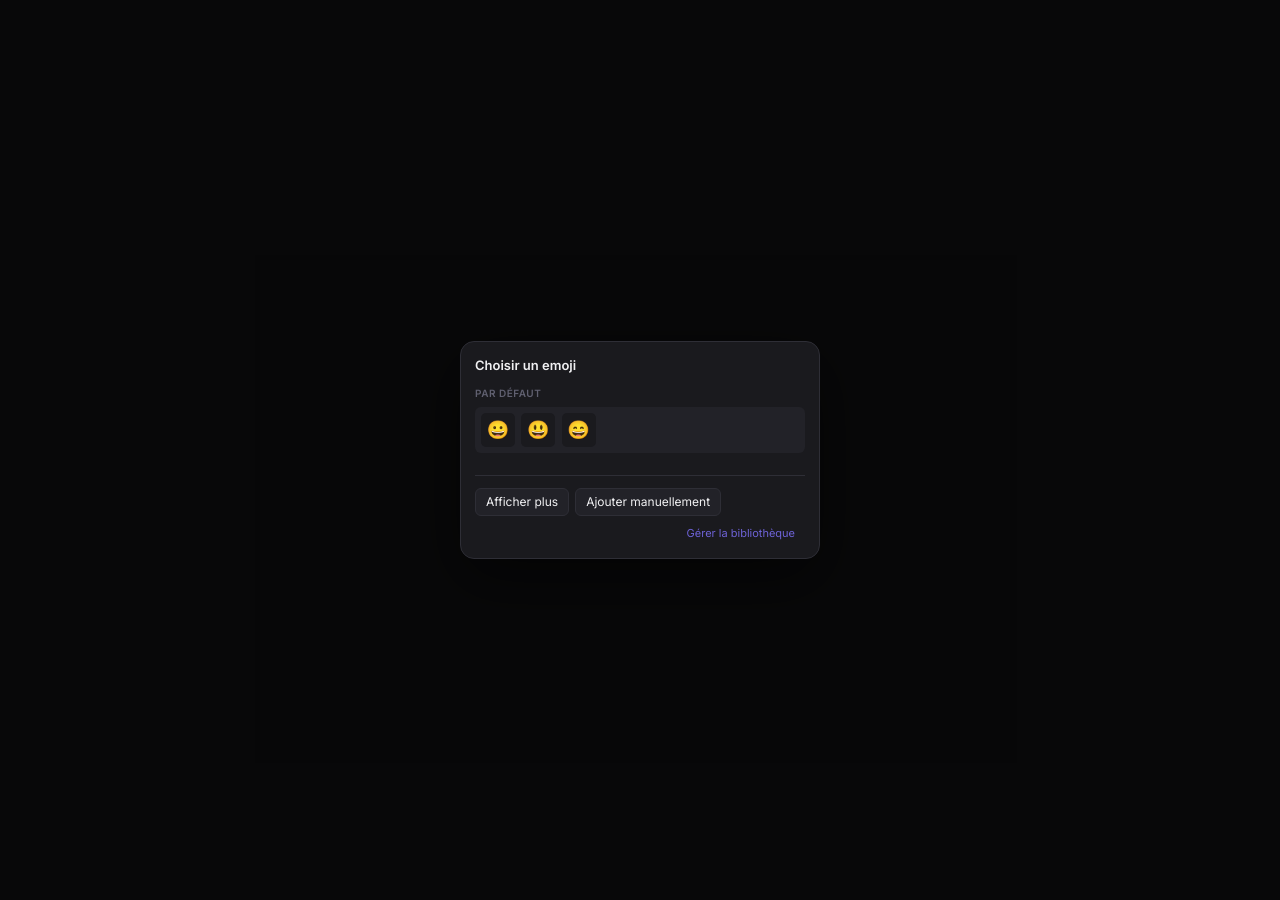
it: EmojiPicker › devrait revenir à la vue réduite avec "Afficher moins"
The width and height of the screenshot is (1280, 900).
Click the button "Afficher plus" at (522, 502), box [475,488,569,516]
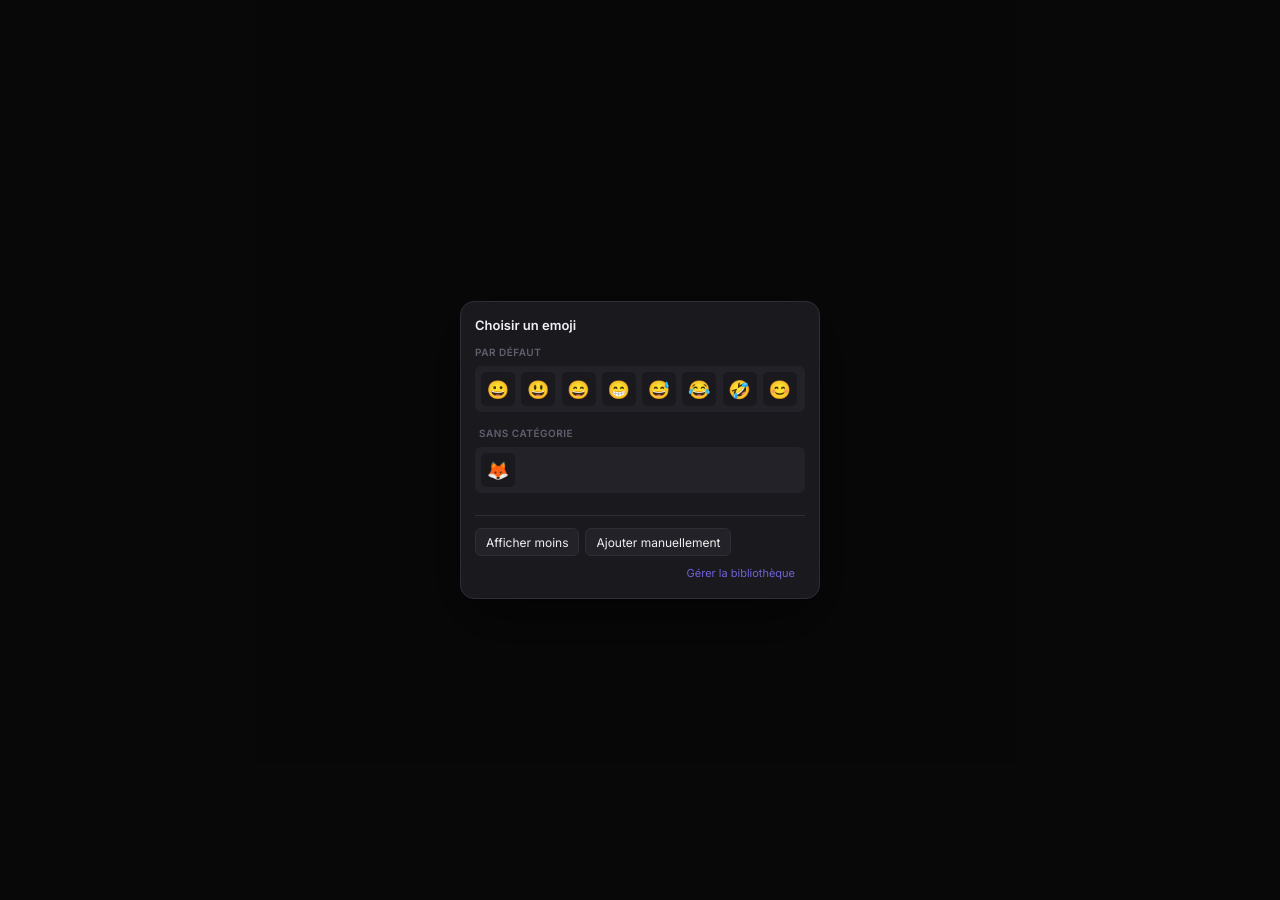
Click the button "Afficher moins" at (527, 542), box [475,528,580,556]
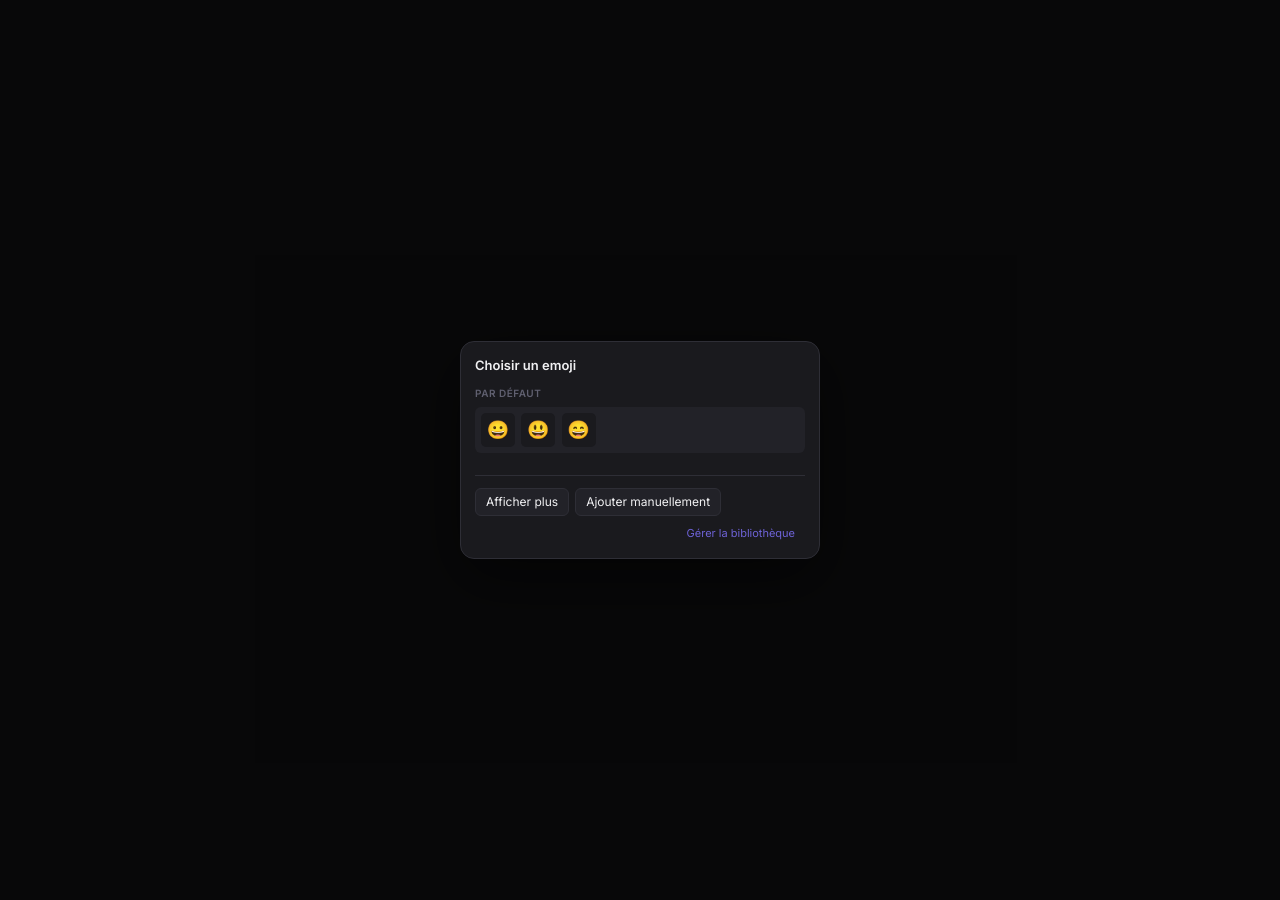
Result: the button "😁" is gone
Result: the button "Afficher plus" is shown at [475,488,569,516]
